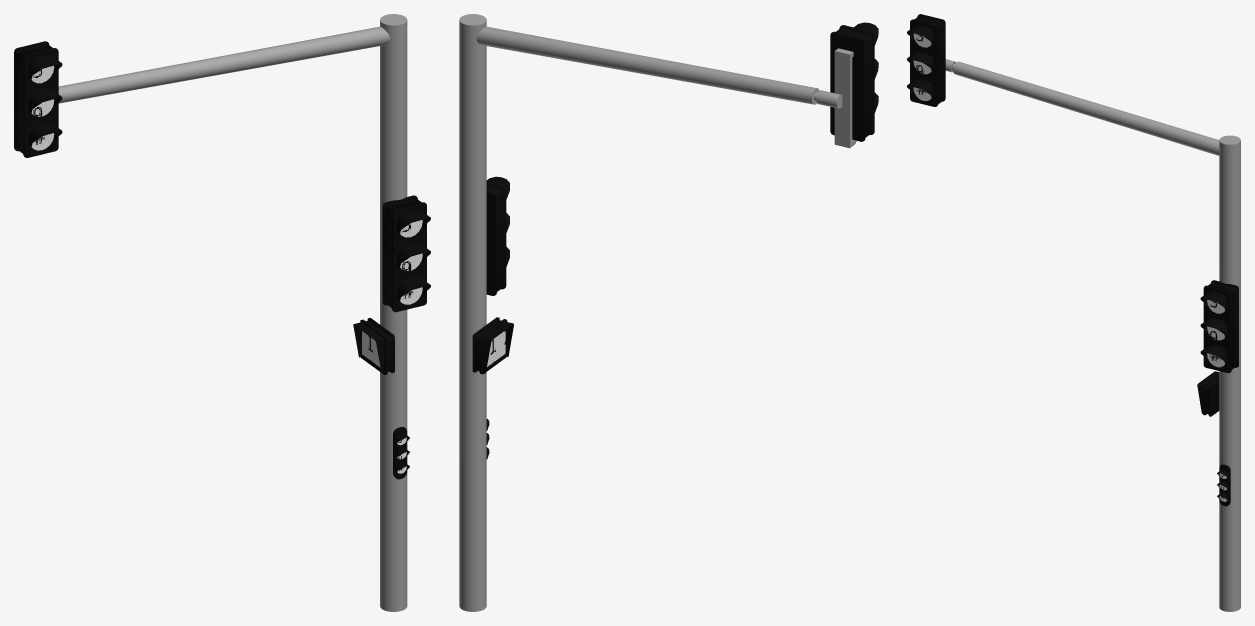
Rendered from feu-de-signalisation-avec-signalisation-au-dessus.obj.
3 views of the same model, side by side, from view 1: azimuth 30°, elevation 25°; view 2: azimuth 150°, elevation 25°; view 3: azimuth 330°, elevation 25° (orthographic). The views are drawn at different scales.
Parts seen in each view (by area): view 1: Pole_Cylinder.001, 3LightsMiddleBox_Cube.002, 3LightsTopBox_Cube.003, 2LightsPedestrian_Cube.005, 3LightsLittleBox_Cube.001; view 2: Pole_Cylinder.001, 3LightsTopBox_Cube.003, 3LightsMiddleBox_Cube.002, 2LightsPedestrian_Cube.005; view 3: Pole_Cylinder.001, 3LightsTopBox_Cube.003, 3LightsMiddleBox_Cube.002, 2LightsPedestrian_Cube.005, 3LightsLittleBox_Cube.001.
Boxes of the visible parts, x1,y1,x2,y2 form: Pole_Cylinder.001: (58,14,407,611); 3LightsMiddleBox_Cube.002: (382,195,430,312); 3LightsTopBox_Cube.003: (14,41,62,157); 2LightsPedestrian_Cube.005: (353,318,394,374); 3LightsLittleBox_Cube.001: (393,426,409,479); Pole_Cylinder.001: (459,14,856,611); 3LightsTopBox_Cube.003: (830,22,878,141); 3LightsMiddleBox_Cube.002: (486,176,509,295); 2LightsPedestrian_Cube.005: (472,317,513,374); Pole_Cylinder.001: (938,59,1240,611); 3LightsTopBox_Cube.003: (907,14,945,106); 3LightsMiddleBox_Cube.002: (1200,280,1238,373); 2LightsPedestrian_Cube.005: (1197,371,1219,416); 3LightsLittleBox_Cube.001: (1217,464,1230,506).
Size of the model in its own units: 321 by 499 by 56.4.
